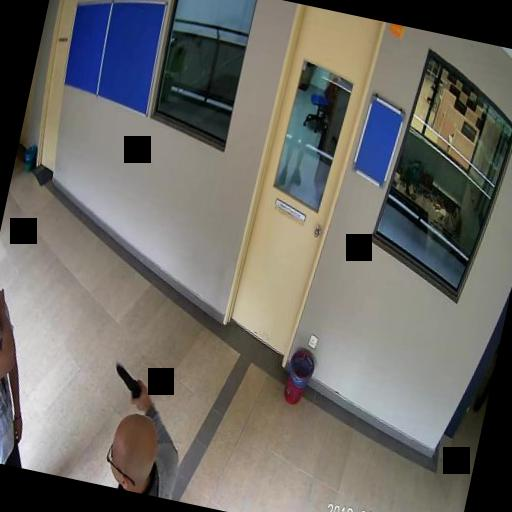Handgun: (106, 359, 147, 406)
